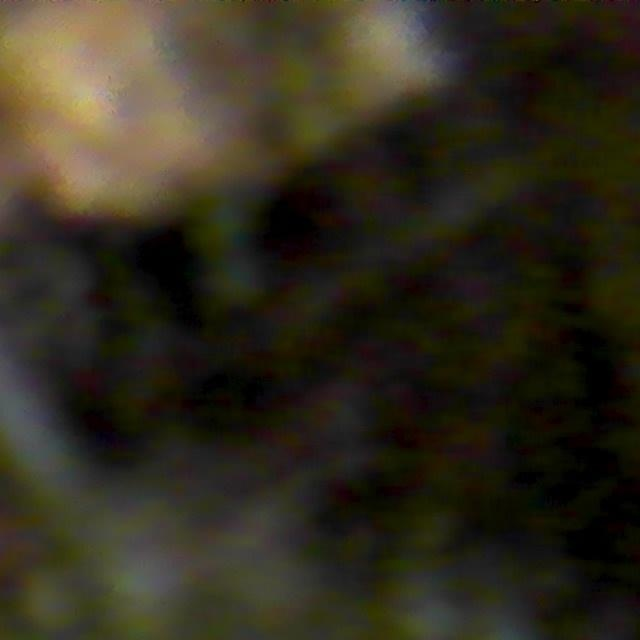SeaGrape: (21, 572, 83, 634), (390, 590, 465, 640)
